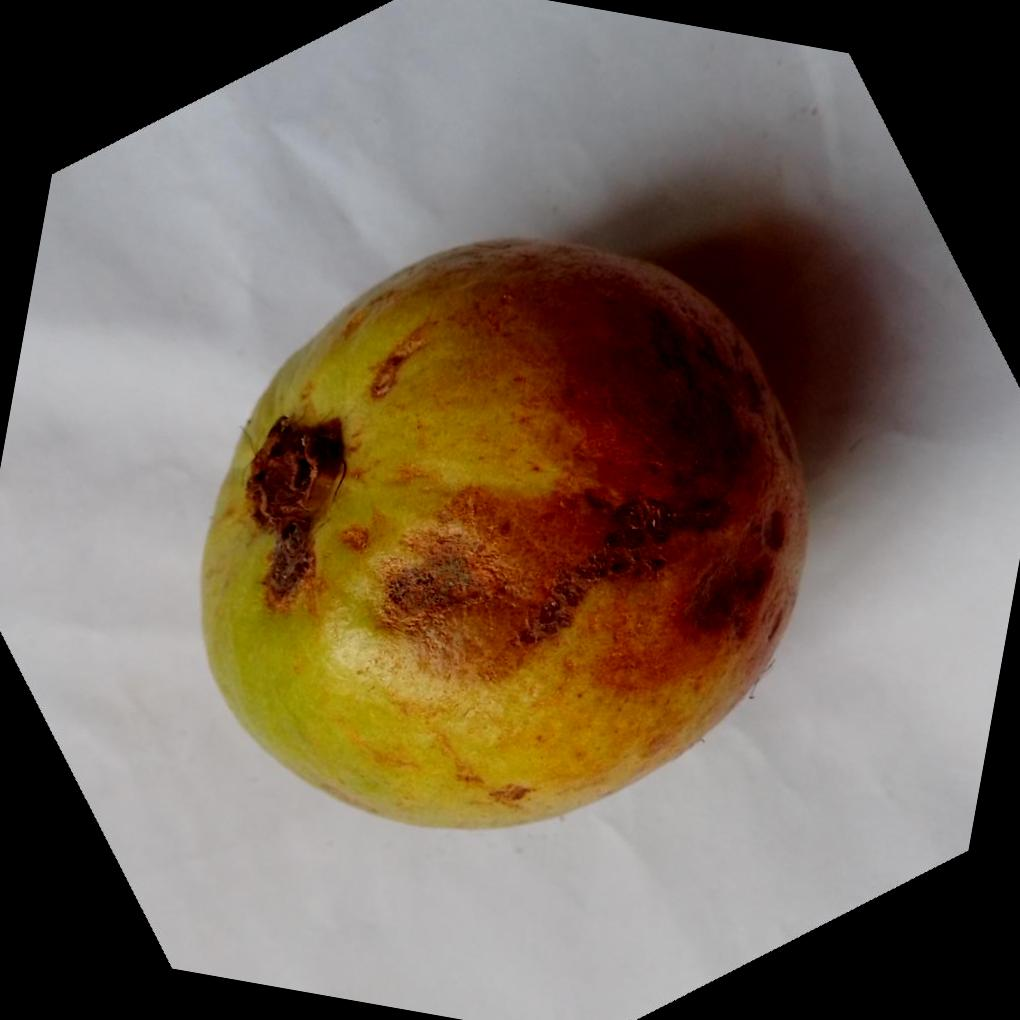FreshOrange: (200, 238, 811, 832)
